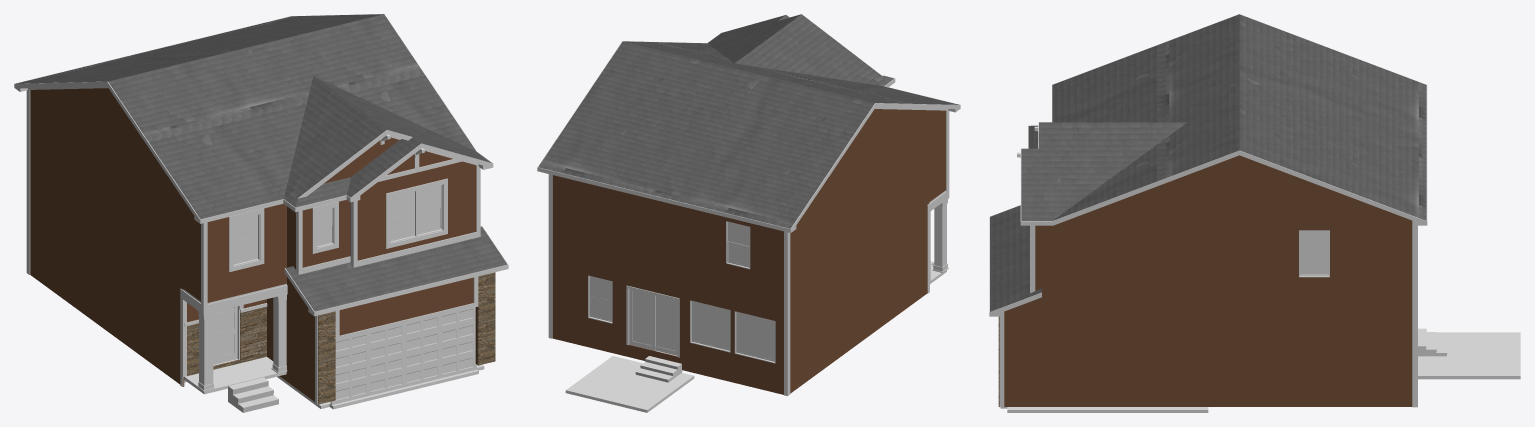
The model's file is 229-1664-dm-traditional.glb.
3 views of the same model, side by side, from view 1: azimuth 30°, elevation 25°; view 2: azimuth 150°, elevation 25°; view 3: azimuth 270°, elevation 25° (orthographic). The views are drawn at different scales.
Visible parts, largest first — view 1: Basic Roof Wood Rafter 4" - Asphalt Shingle - Insulated_4b63, Basic Wall BSB Exterior - Stud_3.5" - Sheathing_0.5" - _3ff7, Basic Wall BSB Exterior - Stud_3.5" - Sheathing_0.5" - _387b, Traditional - BSB Exterior - Overhead Garage Door - Clo_10ec, Basic Roof Wood Rafter 4" - Asphalt Shingle - Insulated_bf3e, Basic Roof Wood Rafter 4" - Asphalt Shingle - Insulated_b3c1, Basic Wall BSB Exterior - Stud_3.5" - Sheathing_0.5" - _9521, Basic Wall BSB Exterior - Stud_1.5" - Sheathing_0.5" - _f8d9, Basic Wall BSB Exterior - Stud_3.5" - Sheathing_0.5" - _4d25, Basic Wall BSB Exterior - Stud_3.5" - Sheathing_0.5" - _a638, Trim - Corner Boards Trim - Corner Boards [4381744], Basic Wall BSB Exterior - Stud_3.5" - Sheathing_0.5" - _3df6 (+30 smaller); view 2: Basic Roof Wood Rafter 4" - Asphalt Shingle - Insulated_4b63, Basic Wall BSB Exterior - Stud_3.5" - Sheathing_0.5" - _85f1, Basic Wall BSB Exterior - Stud_3.5" - Sheathing_0.5" - _0910, Basic Wall BSB Exterior - Stud_3.5" - Sheathing_0.5" - _3ff7, Basic Wall BSB Exterior - Stud_3.5" - Sheathing_0.5" - _387b, Basic Roof Wood Rafter 4" - Asphalt Shingle - Insulated_b3c1, Basic Wall BSB Exterior - Stud_3.5" - Sheathing_0.5" - _9521, Basic Wall BSB Exterior - Stud_1.5" - Sheathing_0.5" - _f8d9, Floor BSB Concrete Slab - 4" - Slope Option [4273371], BSB Exterior - SGD XO - 1-Lite 6068 [4270529], Trim - Corner Boards Trim - Corner Boards [4381744], Fascia Fascia-Flat 1x6 w/12" Soffit Bd [4389750] (+10 smaller); view 3: Basic Roof Wood Rafter 4" - Asphalt Shingle - Insulated_4b63, Basic Wall BSB Exterior - Stud_3.5" - Sheathing_0.5" - _5a9d, Basic Wall BSB Exterior - Stud_3.5" - Sheathing_0.5" - _f2f4, Basic Wall BSB Exterior - Stud_3.5" - Sheathing_0.5" - _e848, Basic Wall BSB Exterior - Stud_3.5" - Sheathing_0.5" - _8b20, Basic Wall BSB Exterior - Stud_1.5" - Sheathing_0.5" - _21fb, Basic Wall BSB Exterior - Stud_3.5" - Sheathing_0.5" - _85ea, Basic Roof Wood Rafter 4" - Asphalt Shingle - Insulated_e990, Floor BSB Concrete Slab - 4" - Slope Option [4273371], Basic Roof Wood Rafter 4" - Asphalt Shingle - Insulated_b3c1, Basic Roof Wood Rafter 4" - Asphalt Shingle - Insulated_bf3e, Fascia Fascia-Flat 1x6 w/12" Soffit Bd [4389750] (+5 smaller).
Part boxes in pixels (x1,y1,x2,y2): Basic Roof Wood Rafter 4" - Asphalt Shingle - Insulated_4b63: (16, 14, 476, 219); Basic Wall BSB Exterior - Stud_3.5" - Sheathing_0.5" - _3ff7: (30, 90, 187, 291); Basic Wall BSB Exterior - Stud_3.5" - Sheathing_0.5" - _387b: (30, 177, 122, 341); Traditional - BSB Exterior - Overhead Garage Door - Clo_10ec: (330, 307, 476, 404); Basic Roof Wood Rafter 4" - Asphalt Shingle - Insulated_bf3e: (285, 226, 507, 311); Basic Roof Wood Rafter 4" - Asphalt Shingle - Insulated_b3c1: (284, 76, 467, 200); Basic Wall BSB Exterior - Stud_3.5" - Sheathing_0.5" - _9521: (122, 244, 176, 381); Basic Wall BSB Exterior - Stud_1.5" - Sheathing_0.5" - _f8d9: (31, 88, 185, 203); Basic Wall BSB Exterior - Stud_3.5" - Sheathing_0.5" - _4d25: (357, 165, 476, 260); Basic Wall BSB Exterior - Stud_3.5" - Sheathing_0.5" - _a638: (207, 203, 286, 302); Trim - Corner Boards Trim - Corner Boards [4381744]: (26, 90, 495, 404); Basic Wall BSB Exterior - Stud_3.5" - Sheathing_0.5" - _3df6: (339, 277, 477, 364); Basic Roof Wood Rafter 4" - Asphalt Shingle - Insulated_4b63: (538, 41, 959, 228); Basic Wall BSB Exterior - Stud_3.5" - Sheathing_0.5" - _85f1: (552, 175, 783, 305); Basic Wall BSB Exterior - Stud_3.5" - Sheathing_0.5" - _0910: (572, 253, 783, 394); Basic Wall BSB Exterior - Stud_3.5" - Sheathing_0.5" - _3ff7: (790, 120, 933, 303); Basic Wall BSB Exterior - Stud_3.5" - Sheathing_0.5" - _387b: (790, 243, 873, 393); Basic Roof Wood Rafter 4" - Asphalt Shingle - Insulated_b3c1: (708, 14, 885, 86); Basic Wall BSB Exterior - Stud_3.5" - Sheathing_0.5" - _9521: (873, 207, 923, 332); Basic Wall BSB Exterior - Stud_1.5" - Sheathing_0.5" - _f8d9: (804, 109, 945, 214); Floor BSB Concrete Slab - 4" - Slope Option [4273371]: (565, 356, 694, 412); BSB Exterior - SGD XO - 1-Lite 6068 [4270529]: (626, 285, 679, 357); Trim - Corner Boards Trim - Corner Boards [4381744]: (548, 110, 949, 396); Fascia Fascia-Flat 1x6 w/12" Soffit Bd [4389750]: (537, 14, 959, 232); Basic Roof Wood Rafter 4" - Asphalt Shingle - Insulated_4b63: (1052, 14, 1426, 220); Basic Wall BSB Exterior - Stud_3.5" - Sheathing_0.5" - _5a9d: (1213, 308, 1412, 406); Basic Wall BSB Exterior - Stud_3.5" - Sheathing_0.5" - _f2f4: (1213, 220, 1412, 307); Basic Wall BSB Exterior - Stud_3.5" - Sheathing_0.5" - _e848: (1070, 220, 1213, 307); Basic Wall BSB Exterior - Stud_3.5" - Sheathing_0.5" - _8b20: (1099, 308, 1215, 406); Basic Wall BSB Exterior - Stud_1.5" - Sheathing_0.5" - _21fb: (1069, 155, 1409, 219); Basic Wall BSB Exterior - Stud_3.5" - Sheathing_0.5" - _85ea: (1004, 308, 1099, 406); Basic Roof Wood Rafter 4" - Asphalt Shingle - Insulated_e990: (1021, 148, 1134, 220); Floor BSB Concrete Slab - 4" - Slope Option [4273371]: (1418, 332, 1520, 379); Basic Roof Wood Rafter 4" - Asphalt Shingle - Insulated_b3c1: (1039, 122, 1187, 220); Basic Roof Wood Rafter 4" - Asphalt Shingle - Insulated_bf3e: (990, 205, 1041, 311); Fascia Fascia-Flat 1x6 w/12" Soffit Bd [4389750]: (1020, 14, 1427, 225).
Bounding box in the file's own units: 9.49 × 8.74 × 15.58.
Materials: 3 (2 with a texture image).
